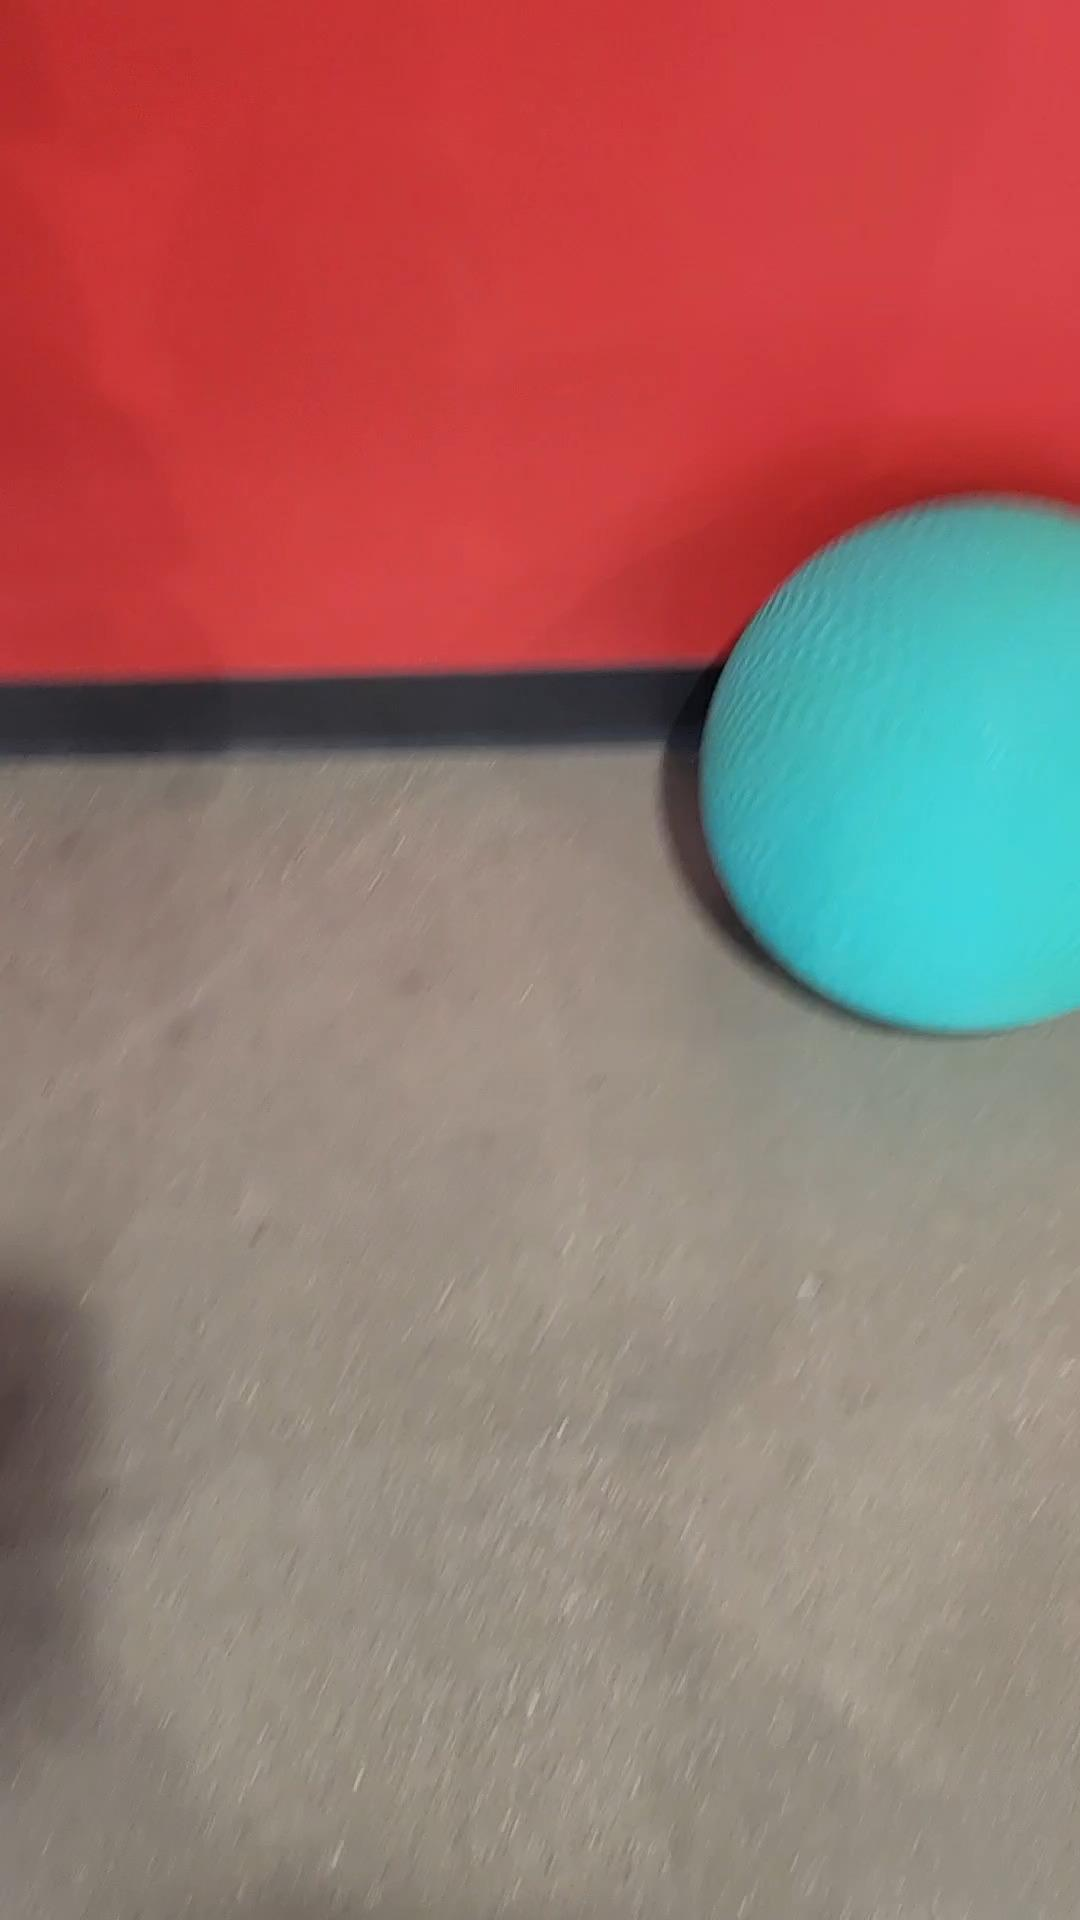algae: (707, 502, 1080, 1025)
